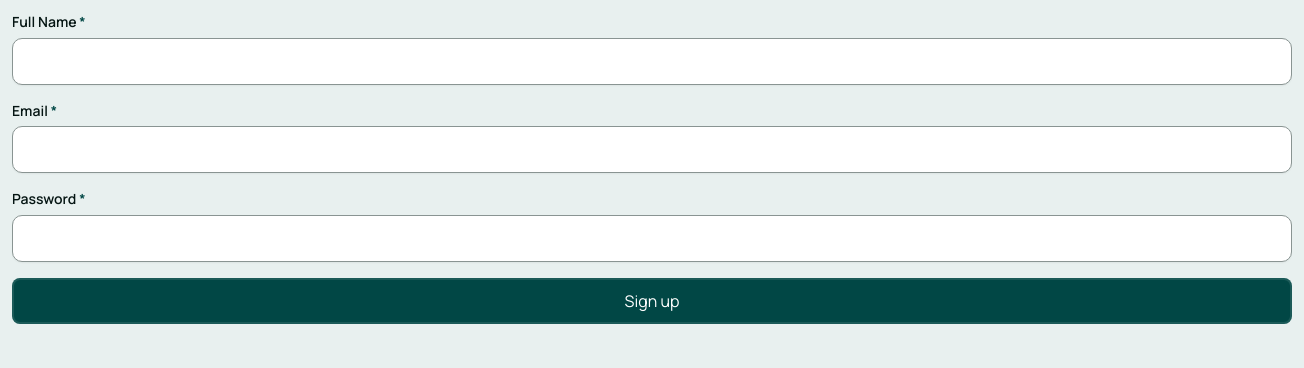
Test case: SignUpForm › shows password min length error
The image size is (1304, 368).
Type "John Doe" into the field labelled "Full Name *". click: (652, 61)
box: [12,38,1292,85]
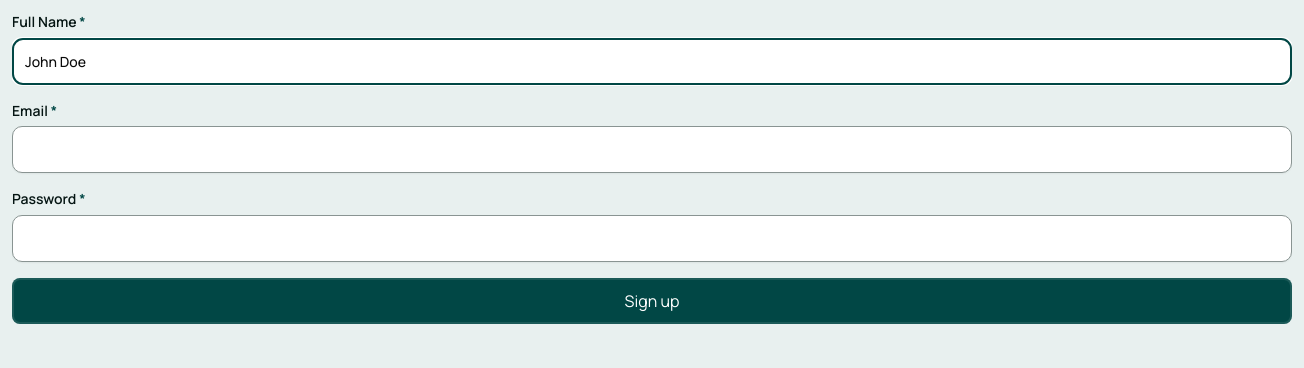
Type "john@example.com" into the field labelled "Email *". click: (652, 150)
box: [12,126,1292,173]
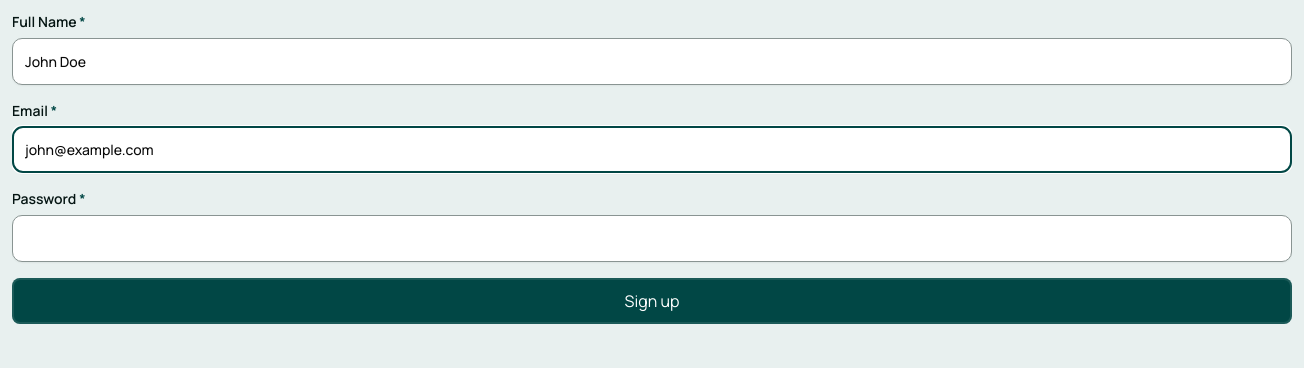
Type "1234567" into the password field labelled "Password *". click: (652, 238)
box: [12,215,1292,262]
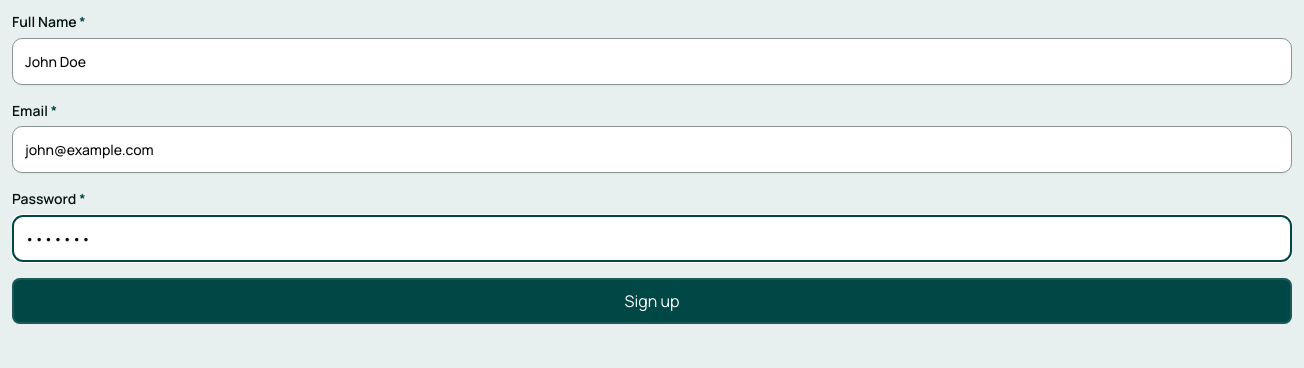
Click the button "Sign up". click: (652, 301)
box: [12,278,1292,324]
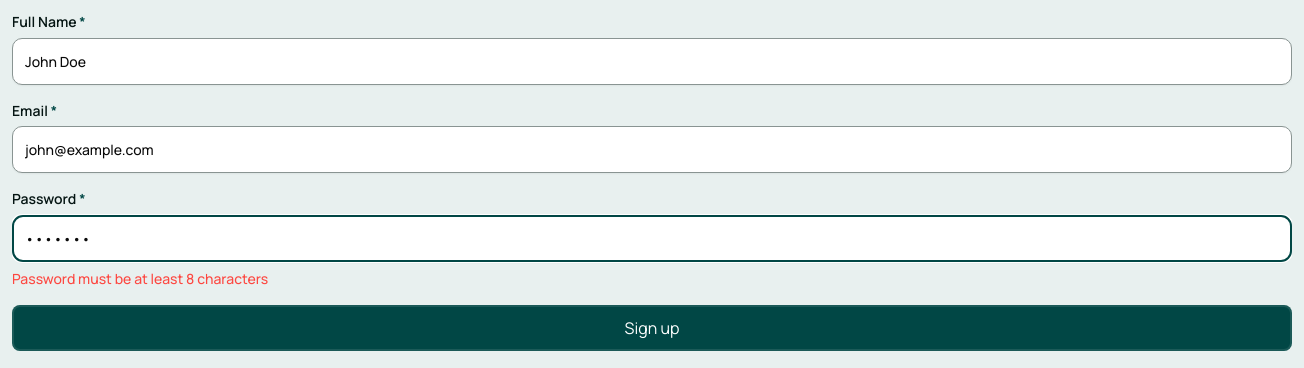
Result: the text "Password must be at least 8 characters" is shown at [12,269,268,288]
